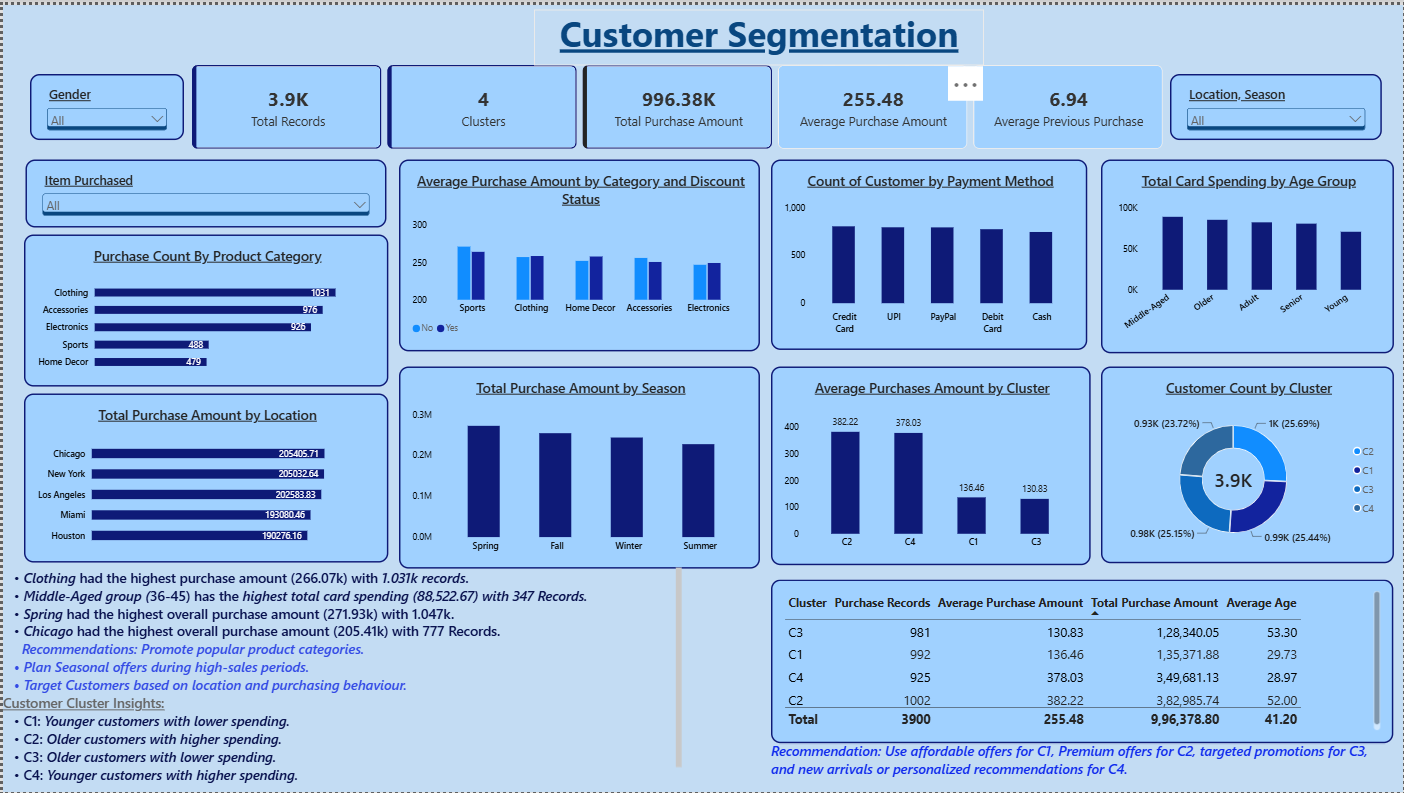

Layout of this report page (visuals, bound fields, positions):
{"tool":"powerbi","page":{"name":"Customer Segmentation Dashboard","canvas":[1920,1080],"ordinal":0},"visuals":[{"type":"clusteredColumnChart","title":"Average Purchase Amount by Category and Discount Status","fields":{"Category":["CustomerSegmentationInternship.cleaned_category"],"Series":["CustomerSegmentationInternship.DiscountApplied"],"Y":["Avg(CustomerSegmentationInternship.PurchaseAmountUSD)"]},"box":[542.8,211.2,495.1,263.5],"z":0},{"type":"clusteredBarChart","title":"Purchase Count By Product Category","fields":{"Category":["CustomerSegmentationInternship.cleaned_category"],"Y":["CountNonNull(CustomerSegmentationInternship.CustomerID)"]},"box":[29.5,315.7,499.7,209],"z":1000},{"type":"cardVisual","fields":{"Data":["CountNonNull(CustomerSegmentationInternship.CustomerID)","Count(Clusters.Cluster)","Sum(CustomerSegmentationInternship.PurchaseAmountUSD)","CustomerSegmentationInternship.Average Purchase Amount","CustomerSegmentationInternship.Average Previous Purchase"]},"box":[258.9,81.8,1333.3,115.8],"z":2000},{"type":"slicer","fields":{"Values":["CustomerSegmentationInternship.Location","CustomerSegmentationInternship.Season"]},"box":[1601.3,95.4,290.7,90.9],"z":3000},{"type":"donutChart","title":"Customer Count by Cluster","fields":{"Category":["Clusters.Cluster"],"Y":["CountNonNull(CustomerSegmentationInternship.CustomerID)"]},"box":[1505.9,495.1,402,270.3],"z":4000},{"type":"clusteredColumnChart","title":"Total Card Spending by Age Group","fields":{"Category":["CustomerSegmentationInternship.AgeGroup"],"Y":["Sum(CustomerSegmentationInternship.PurchaseAmountUSD)"]},"box":[1505.9,211.2,402,265.7],"z":5000},{"type":"clusteredColumnChart","title":"Count of Customer by Payment Method ","fields":{"Category":["CustomerSegmentationInternship.PaymentMethod"],"Y":["CountNonNull(CustomerSegmentationInternship.CustomerID)"]},"box":[1053.9,211.2,433.8,261.2],"z":6000},{"type":"clusteredColumnChart","title":"Total Purchase Amount by Season","fields":{"Category":["CustomerSegmentationInternship.Season"],"Y":["Sum(CustomerSegmentationInternship.PurchaseAmountUSD)"]},"box":[542.8,495.1,495.1,277.1],"z":7000},{"type":"slicer","fields":{"Values":["CustomerSegmentationInternship.Gender"]},"box":[36.3,95.4,211.2,90.9],"z":8000},{"type":"clusteredColumnChart","title":"Average Purchases Amount by Cluster","fields":{"Category":["Clusters.Cluster"],"Y":["CustomerSegmentationInternship.Average Purchase Amount"]},"box":[1053.9,495.1,438.4,272.6],"z":9000},{"type":"clusteredBarChart","title":"Total Purchase Amount by Location","fields":{"Category":["CustomerSegmentationInternship.Location"],"Y":["Sum(CustomerSegmentationInternship.PurchaseAmountUSD)"]},"box":[29.5,533.8,499.7,231.7],"z":10000},{"type":"textbox","box":[729.1,6.8,617.8,75],"z":12000},{"type":"textbox","box":[0,772.2,931.2,306.6],"z":13000},{"type":"slicer","fields":{"Values":["CustomerSegmentationInternship.ItemPurchased"]},"box":[31.8,211.2,495.1,93.1],"z":14000},{"type":"textbox","box":[1053.9,992.6,854,68.1],"z":15000},{"type":"tableEx","fields":{"Values":["Clusters.Cluster","Clusters.CustomerID","CustomerSegmentationInternship.Average Purchase Amount","Sum(CustomerSegmentationInternship.PurchaseAmountUSD)","CustomerSegmentationInternship.Average Age"]},"box":[1053.9,788.1,854,224.9],"z":16000}]}

Visuals, with their boxes in screenshot pixels (x1, y1, x2, y2), scaled from the page's 1920x1080 canvas onto the 1404x793 screenshot:
"Average Purchase Amount by Category and Discount Status" clusteredColumnChart: Rect(397, 155, 759, 349)
"Purchase Count By Product Category" clusteredBarChart: Rect(22, 232, 387, 385)
cardVisual - CountNonNull(CustomerSegmentationInternship.CustomerID) x Count(Clusters.Cluster): Rect(189, 60, 1164, 145)
slicer - CustomerSegmentationInternship.Location x CustomerSegmentationInternship.Season: Rect(1171, 70, 1384, 137)
"Customer Count by Cluster" donutChart: Rect(1101, 364, 1395, 562)
"Total Card Spending by Age Group" clusteredColumnChart: Rect(1101, 155, 1395, 350)
"Count of Customer by Payment Method " clusteredColumnChart: Rect(771, 155, 1088, 347)
"Total Purchase Amount by Season" clusteredColumnChart: Rect(397, 364, 759, 567)
slicer - CustomerSegmentationInternship.Gender: Rect(27, 70, 181, 137)
"Average Purchases Amount by Cluster" clusteredColumnChart: Rect(771, 364, 1091, 564)
"Total Purchase Amount by Location" clusteredBarChart: Rect(22, 392, 387, 562)
textbox: Rect(533, 5, 985, 60)
textbox: Rect(0, 567, 681, 792)
slicer - CustomerSegmentationInternship.ItemPurchased: Rect(23, 155, 385, 223)
textbox: Rect(771, 729, 1395, 779)
tableEx - Clusters.Cluster x Clusters.CustomerID: Rect(771, 579, 1395, 744)
